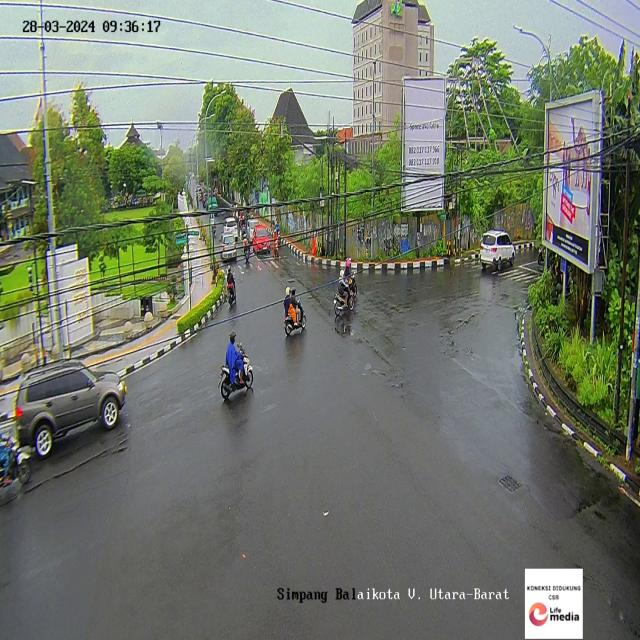car: (5, 362, 129, 462), (479, 230, 517, 274), (253, 227, 272, 260), (221, 232, 238, 267)
motorcycle: (218, 327, 254, 401), (0, 420, 29, 487), (283, 288, 306, 336), (336, 269, 355, 324), (340, 253, 358, 300), (225, 270, 238, 307)
